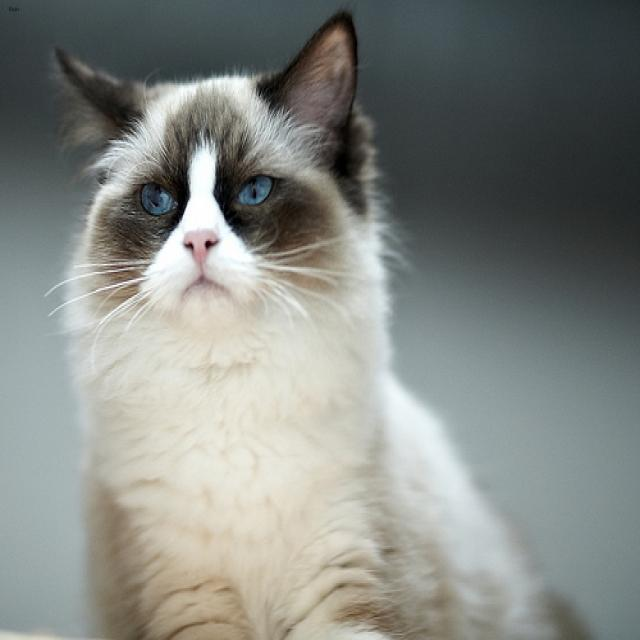Ragdoll: (52, 5, 377, 364)
